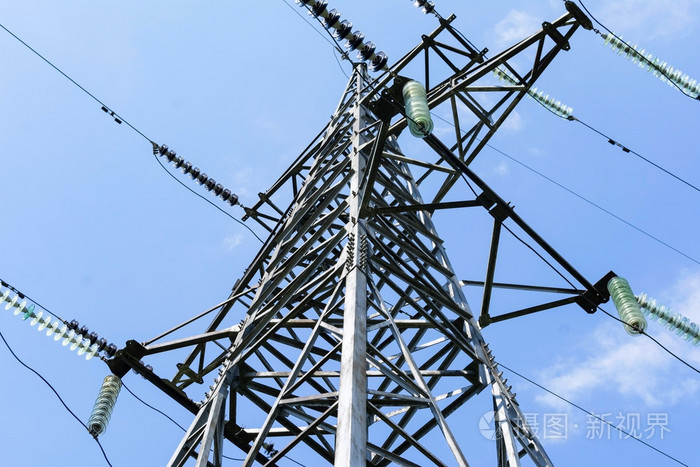insulator: (1, 288, 100, 356), (605, 30, 700, 96), (297, 1, 385, 68), (156, 145, 240, 205), (495, 66, 574, 120), (639, 295, 700, 345), (610, 275, 646, 338), (88, 376, 124, 432), (405, 80, 433, 137)
